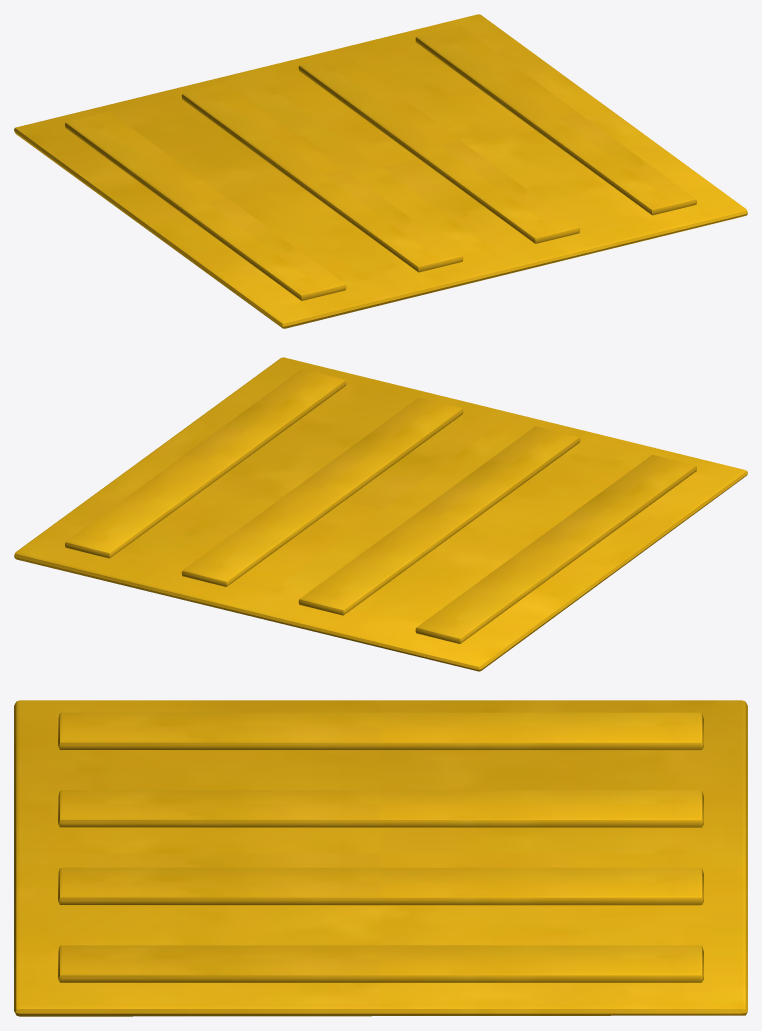
Rendered from PIS-TAT-004_lod1.glb.
3 views of the same model, one above another, from view 1: azimuth 30°, elevation 25°; view 2: azimuth 150°, elevation 25°; view 3: azimuth 270°, elevation 25° (orthographic). The views are drawn at different scales.
Parts seen in each view (by area): view 1: PIS-TAT-004_placa, PIS-TAT-004_barra3, PIS-TAT-004_barra0, PIS-TAT-004_barra2, PIS-TAT-004_barra1; view 2: PIS-TAT-004_placa, PIS-TAT-004_barra1, PIS-TAT-004_barra3, PIS-TAT-004_barra0, PIS-TAT-004_barra2; view 3: PIS-TAT-004_placa, PIS-TAT-004_barra0, PIS-TAT-004_barra2, PIS-TAT-004_barra3, PIS-TAT-004_barra1.
Boxes of the visible parts, left/top/right/bottom form: PIS-TAT-004_placa: left=14, top=14, right=747, bottom=328; PIS-TAT-004_barra3: left=415, top=26, right=696, bottom=215; PIS-TAT-004_barra0: left=65, top=112, right=346, bottom=300; PIS-TAT-004_barra2: left=298, top=54, right=580, bottom=243; PIS-TAT-004_barra1: left=181, top=83, right=463, bottom=272; PIS-TAT-004_placa: left=14, top=357, right=747, bottom=671; PIS-TAT-004_barra1: left=298, top=426, right=580, bottom=615; PIS-TAT-004_barra3: left=65, top=369, right=346, bottom=558; PIS-TAT-004_barra0: left=415, top=455, right=696, bottom=643; PIS-TAT-004_barra2: left=181, top=398, right=463, bottom=586; PIS-TAT-004_placa: left=14, top=700, right=747, bottom=1016; PIS-TAT-004_barra0: left=58, top=712, right=703, bottom=750; PIS-TAT-004_barra2: left=58, top=867, right=703, bottom=905; PIS-TAT-004_barra3: left=58, top=945, right=703, bottom=982; PIS-TAT-004_barra1: left=58, top=790, right=703, bottom=827.
Bounding box in the file's own units: 0.25 × 0.008 × 0.25.
Materials: 1 (1 with a texture image).
